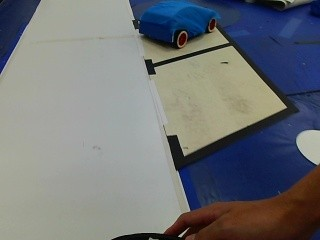car: (138, 2, 219, 50)
